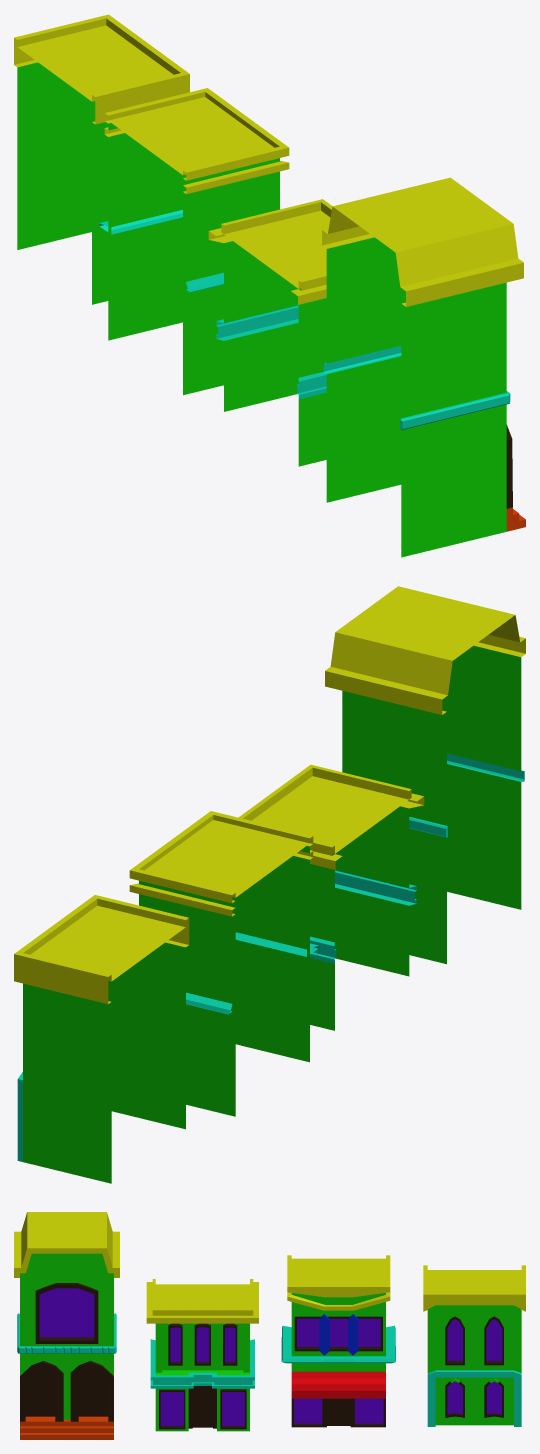
File: FINISHED-dt.fbx
3 views of the same model, one above another, from view 1: azimuth 30°, elevation 25°; view 2: azimuth 150°, elevation 25°; view 3: azimuth 270°, elevation 25° (orthographic). The views are drawn at different scales.
Parts seen in each view (by area): view 1: DTBuild1, DTBuild3, DTBuild4, DTBuild2; view 2: DTBuild1, DTBuild4, DTBuild3, DTBuild2; view 3: DTBuild1, DTBuild3, DTBuild2, DTBuild4.
Boxes of the visible parts, x1,y1,x2,y2 form: DTBuild1: [322, 177, 525, 557]; DTBuild3: [99, 88, 289, 395]; DTBuild4: [14, 14, 189, 304]; DTBuild2: [208, 199, 332, 466]; DTBuild1: [325, 586, 525, 964]; DTBuild4: [14, 895, 189, 1183]; DTBuild3: [129, 811, 318, 1116]; DTBuild2: [238, 764, 424, 1030]; DTBuild1: [14, 1212, 119, 1439]; DTBuild3: [281, 1255, 395, 1427]; DTBuild2: [146, 1279, 258, 1431]; DTBuild4: [423, 1265, 525, 1426].
Bounding box in the file's own units: 5.7 × 12.32 × 30.14.
